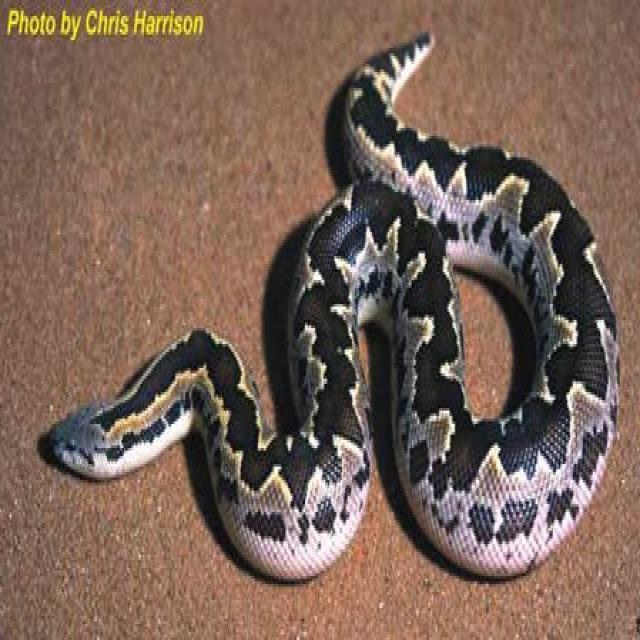Snake: (44, 27, 620, 584)
